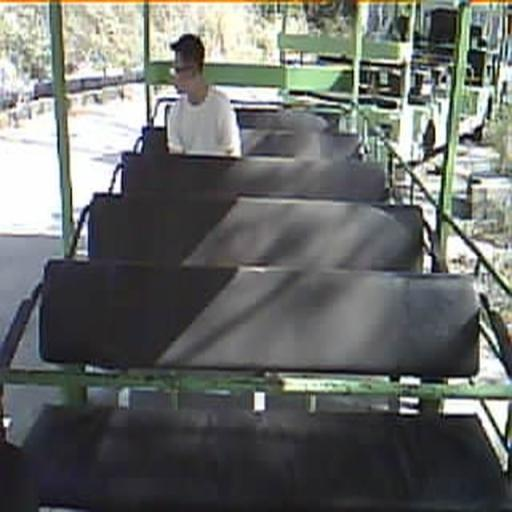persona: (164, 32, 243, 158)
